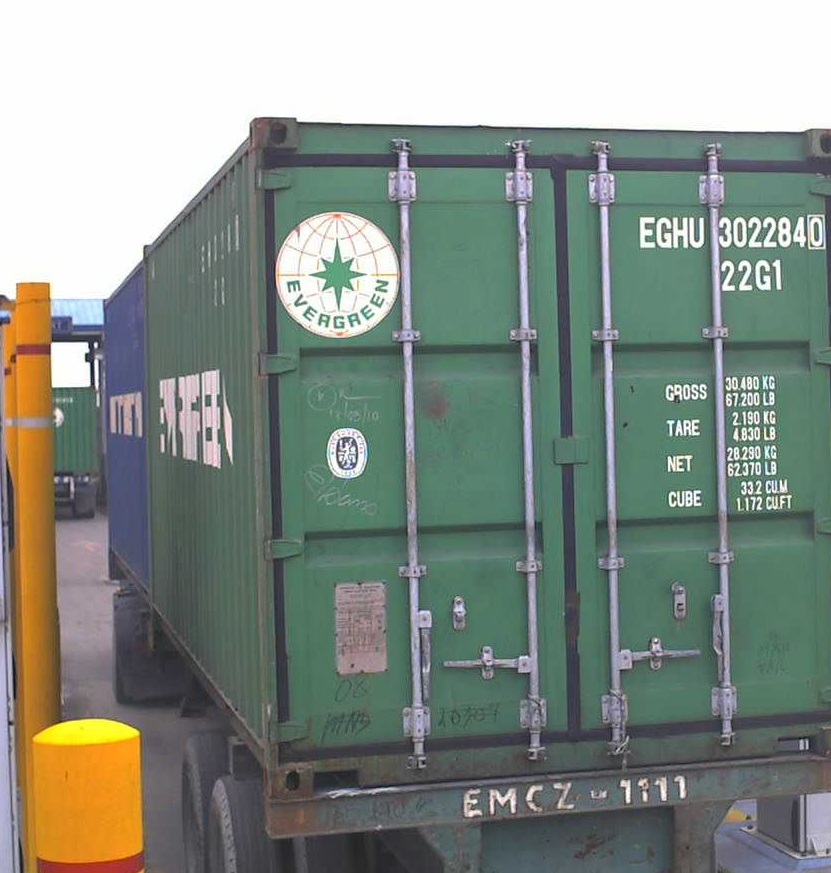container_door: (250, 115, 824, 795)
